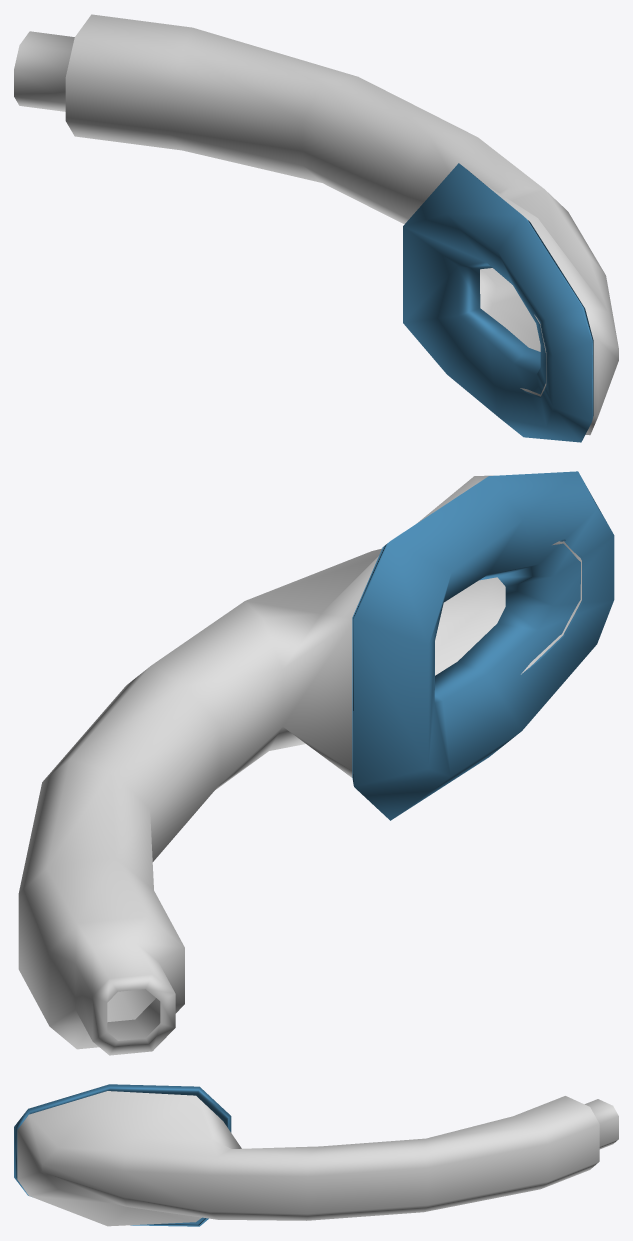
The model's file is Poly(2) Device_1.fbx.
The picture shows the model from 3 angles, top to bottom: view 1: azimuth 30°, elevation 25°; view 2: azimuth 150°, elevation 25°; view 3: azimuth 270°, elevation 25°; orthographic projection. The views are drawn at different scales.
Parts seen in each view (by area): view 1: pCube1, pCube4; view 2: pCube1, pCube4; view 3: pCube1, pCube4.
Part boxes in pixels (left/top/right/bottom): pCube1: left=14, top=14, right=618, bottom=435; pCube4: left=403, top=163, right=593, bottom=442; pCube1: left=18, top=475, right=581, bottom=1055; pCube4: left=352, top=471, right=614, bottom=820; pCube1: left=17, top=1091, right=618, bottom=1226; pCube4: left=14, top=1084, right=231, bottom=1226.
Size of the model in its own units: 0.1889 by 0.1533 by 0.5971.
